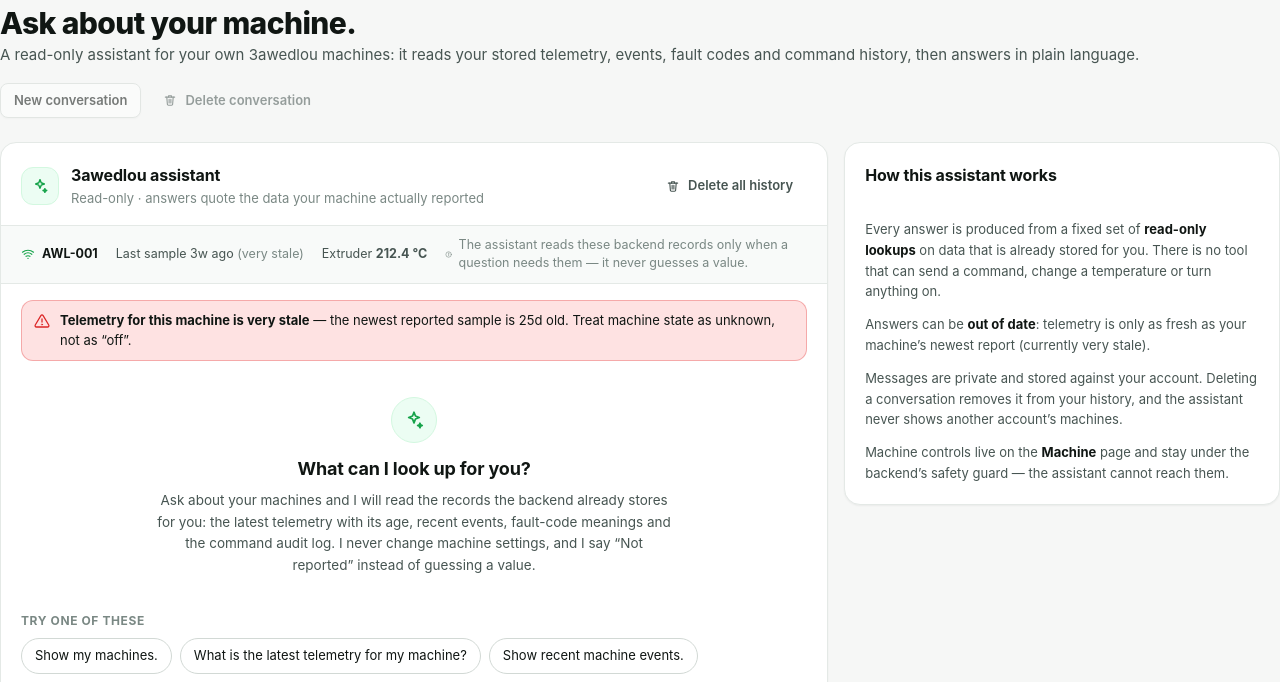
assistant page — sending a turn › sends a suggested prompt from the chip
What coordinates should you click on to do the following:
click the button "Show my machines."
I would click on:
 (96, 656)
Its box is [21,638,172,674].
(page scrolled)
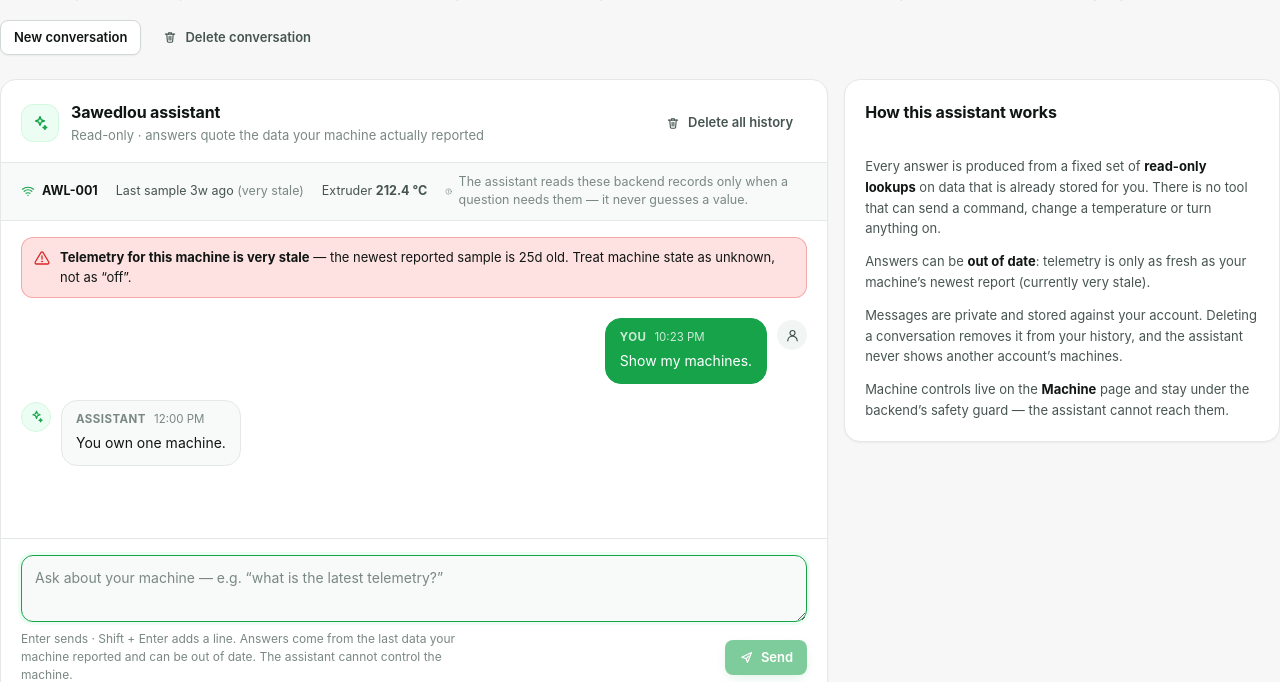
Expected: the text "You own one machine." is shown, [76,432,226,455]
